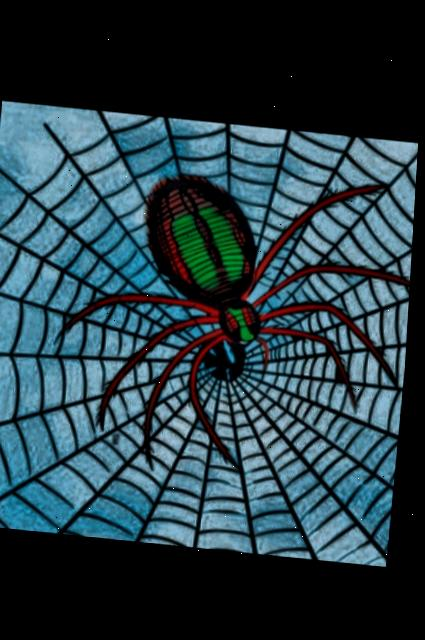La Arana: (0, 100, 420, 561)
